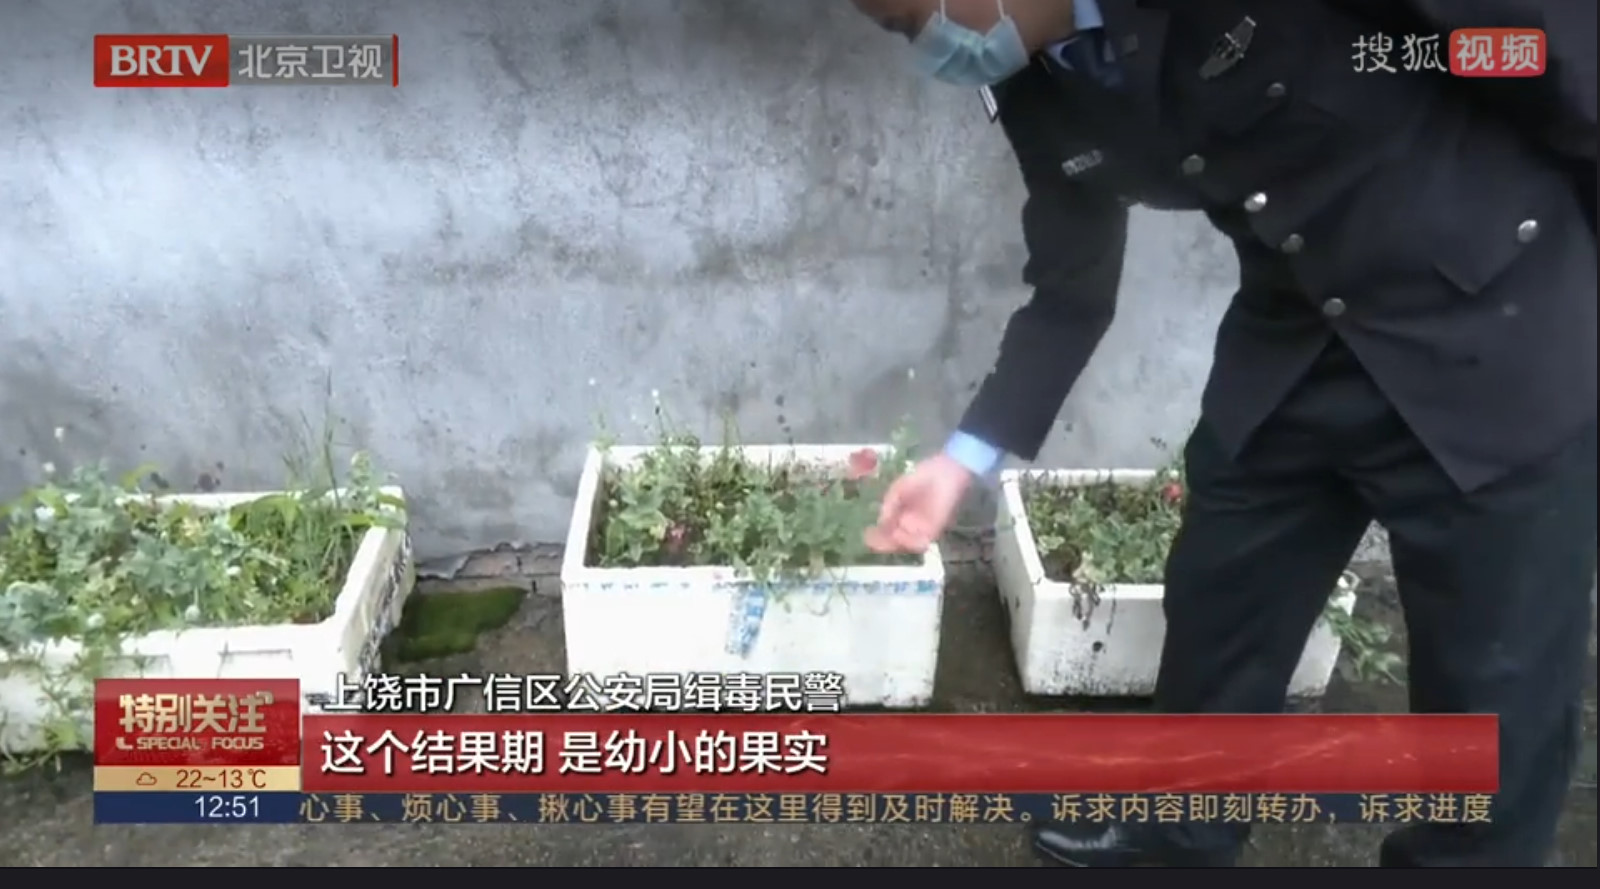Poppy: (3, 412, 406, 681), (572, 335, 932, 584), (1022, 411, 1208, 596)
